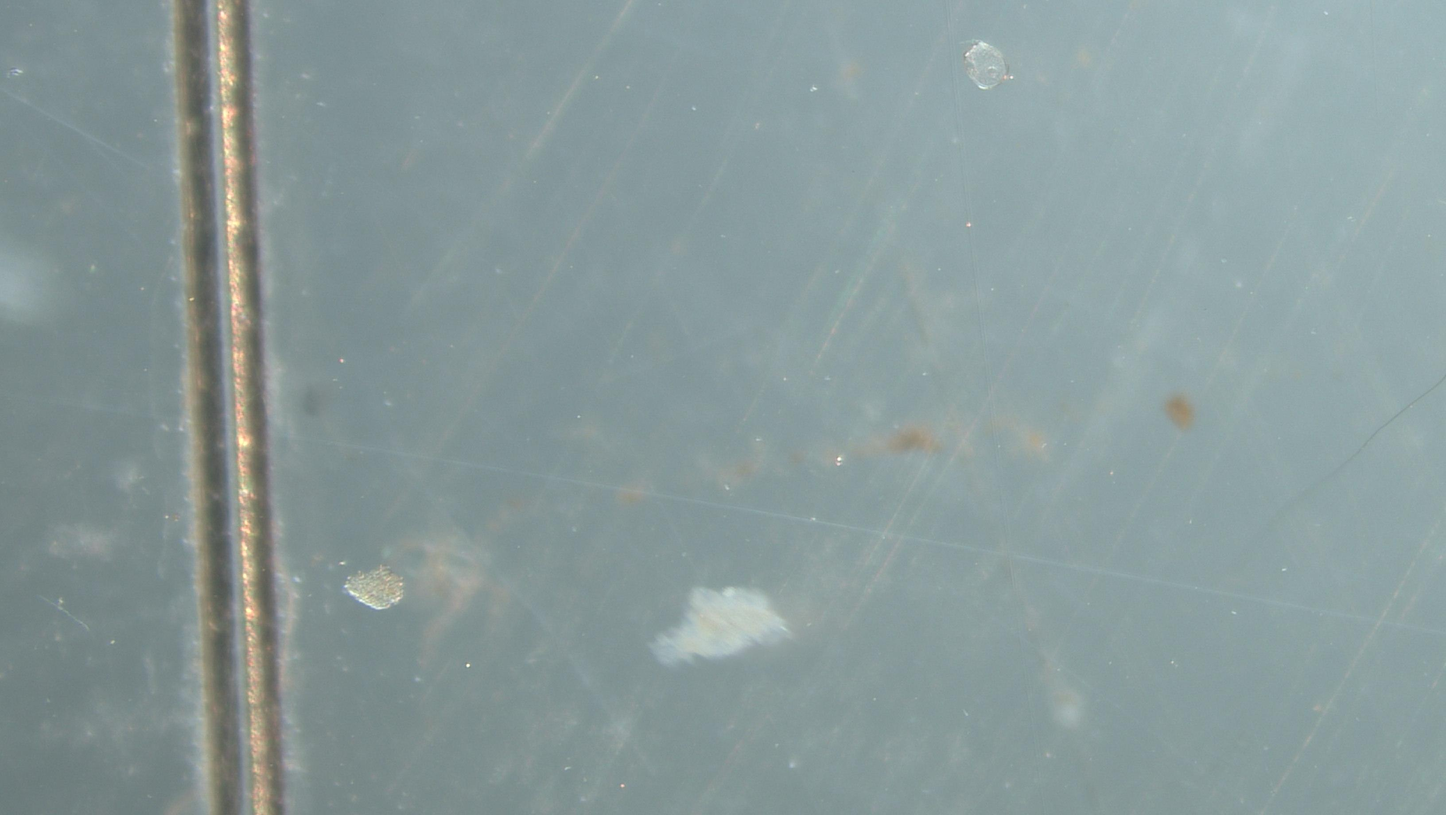dead: (963, 40, 1013, 90)
